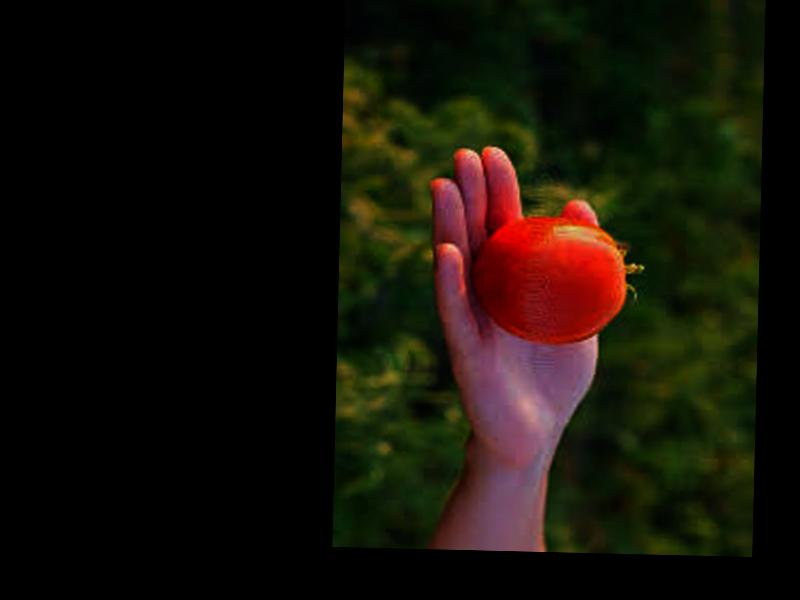Tomato: (467, 216, 626, 344)
